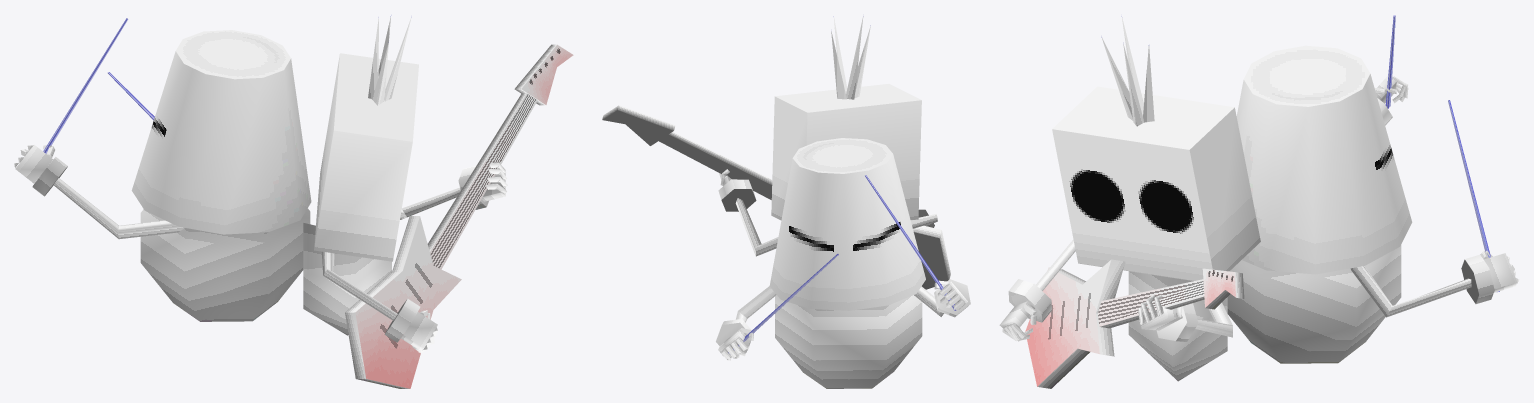
Rendered from ps2_save-icons_guitarfreaksv2.glb.
3 views of the same model, side by side, from view 1: azimuth 30°, elevation 25°; view 2: azimuth 150°, elevation 25°; view 3: azimuth 270°, elevation 25° (orthographic). The views are drawn at different scales.
Parts seen in each view (by area): view 1: gfdm.ico; view 2: gfdm.ico; view 3: gfdm.ico.
Part boxes in pixels (x1,y1,x2,y2): gfdm.ico: [14, 15, 573, 388]; gfdm.ico: [602, 16, 970, 388]; gfdm.ico: [999, 15, 1519, 388].
Size of the model in its own units: 4.88 by 3.32 by 4.1.
Materials: 1 (1 with a texture image).
